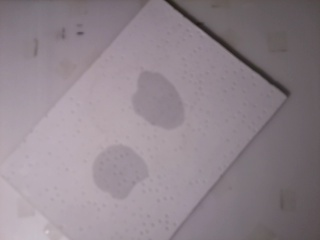Water_detected: (133, 74, 187, 121), (99, 151, 140, 191)
